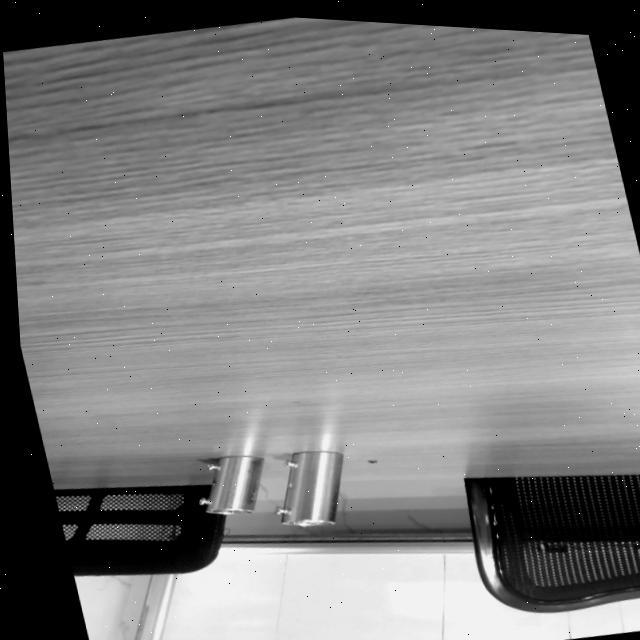Co_Lon: (272, 446, 342, 530)
Co_Nho: (198, 448, 264, 522)
